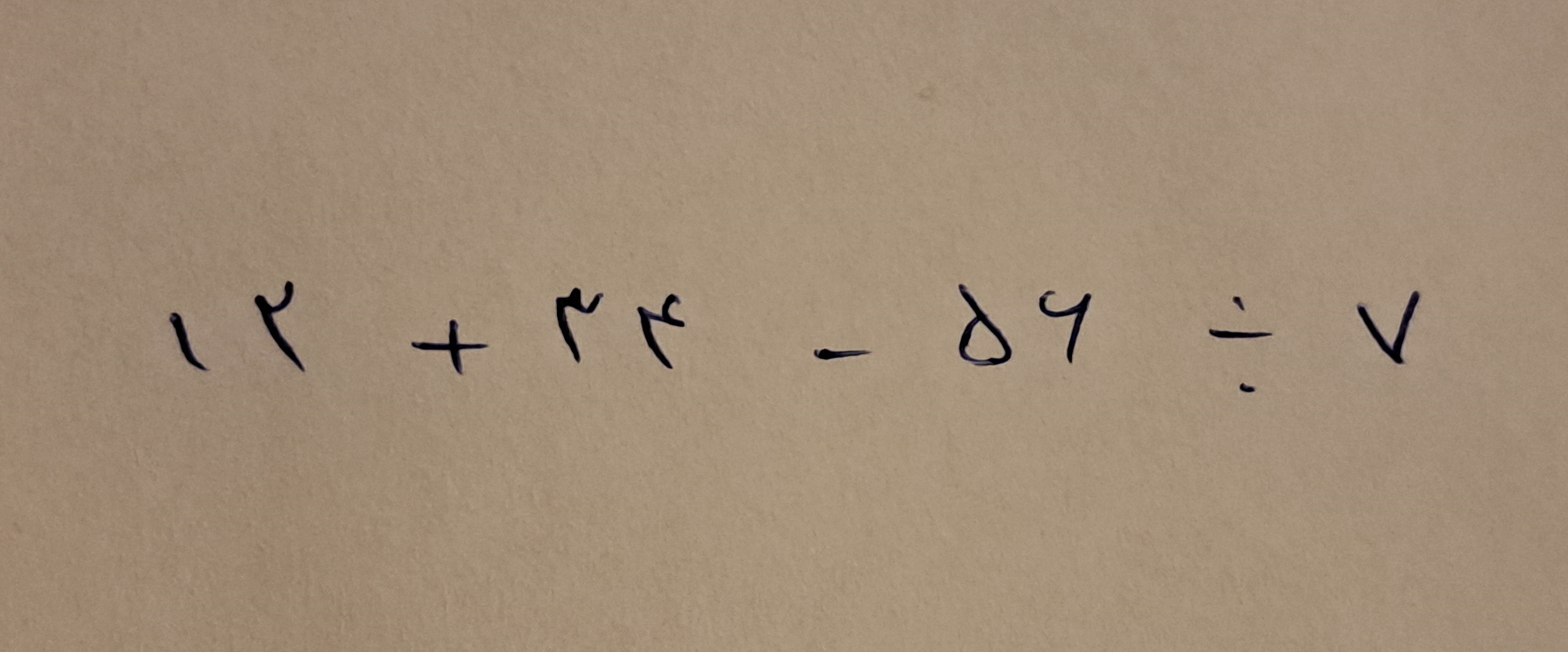character: (1210, 295, 1270, 392), (1357, 290, 1419, 365), (255, 281, 307, 370), (958, 284, 1012, 366), (410, 320, 486, 375), (637, 293, 689, 370), (1039, 288, 1092, 363), (556, 286, 606, 365), (171, 313, 208, 370), (811, 346, 868, 360)
